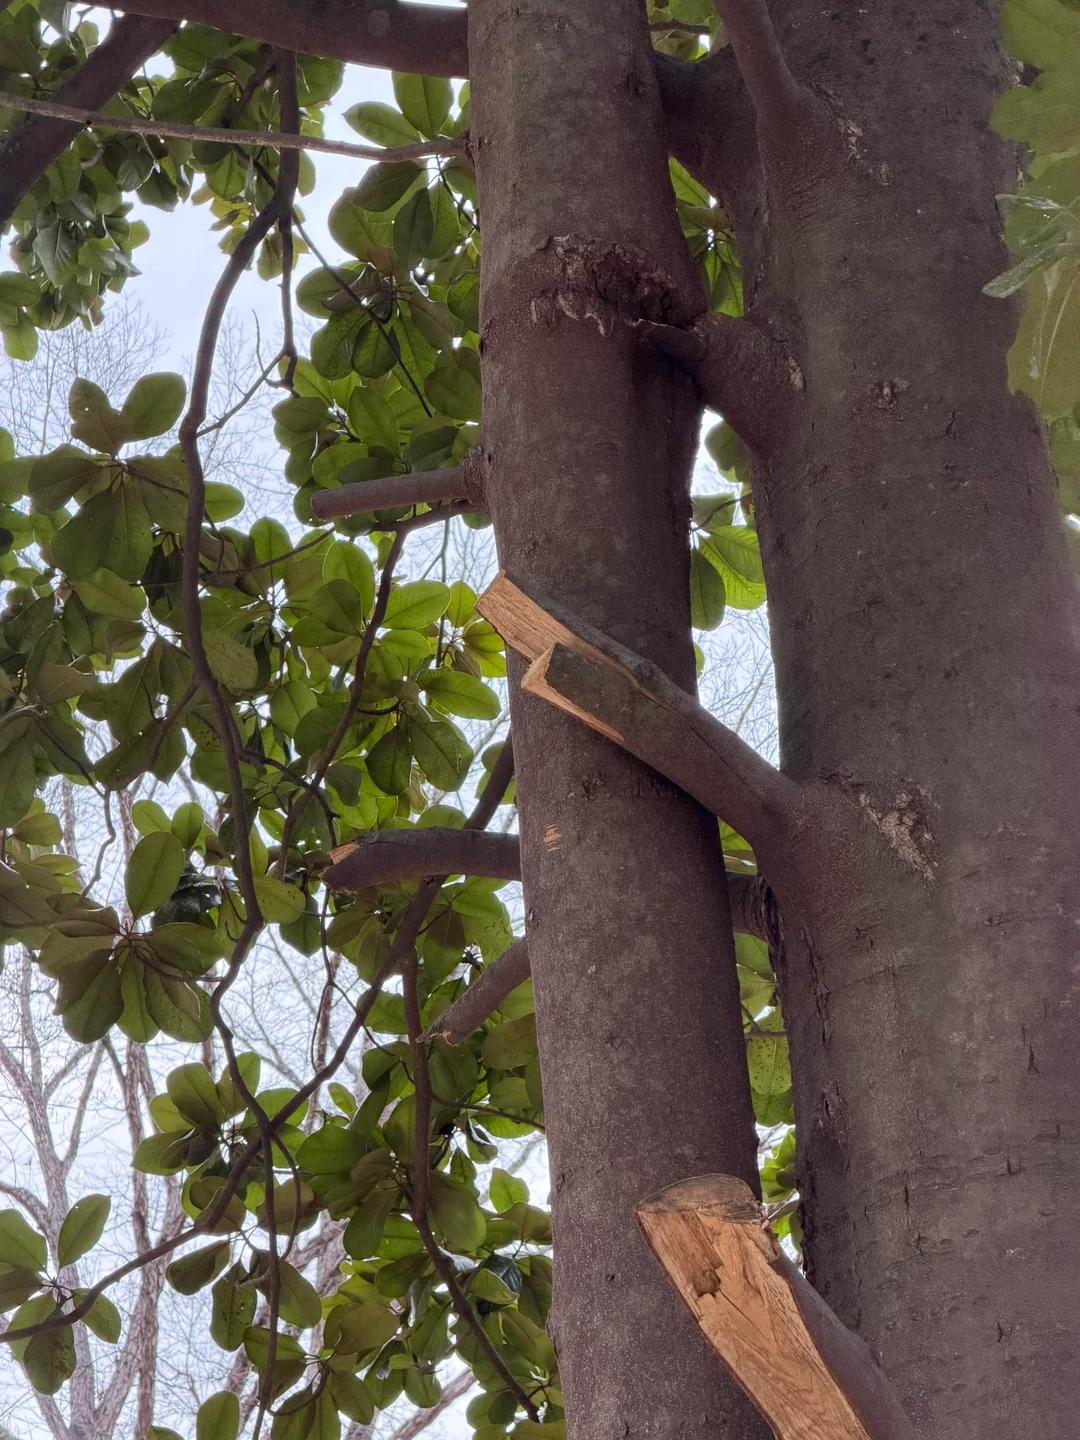mechanical damage: (638, 1175, 914, 1439), (479, 573, 594, 661), (522, 642, 622, 742)
